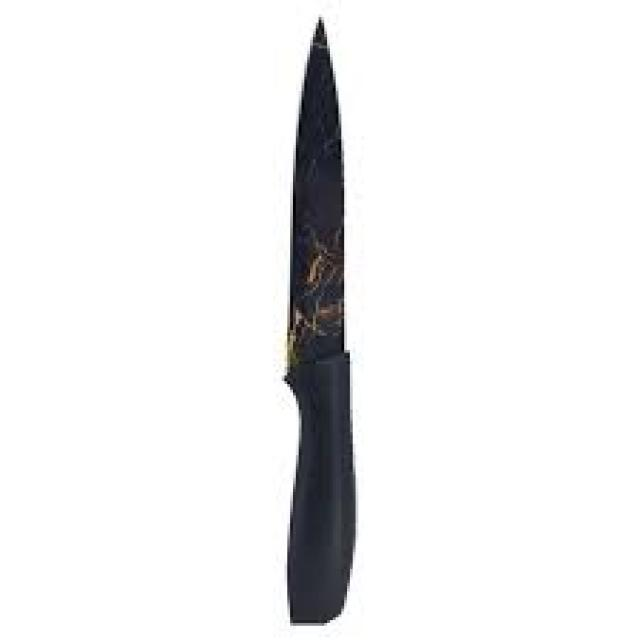knife: (279, 15, 375, 631)
